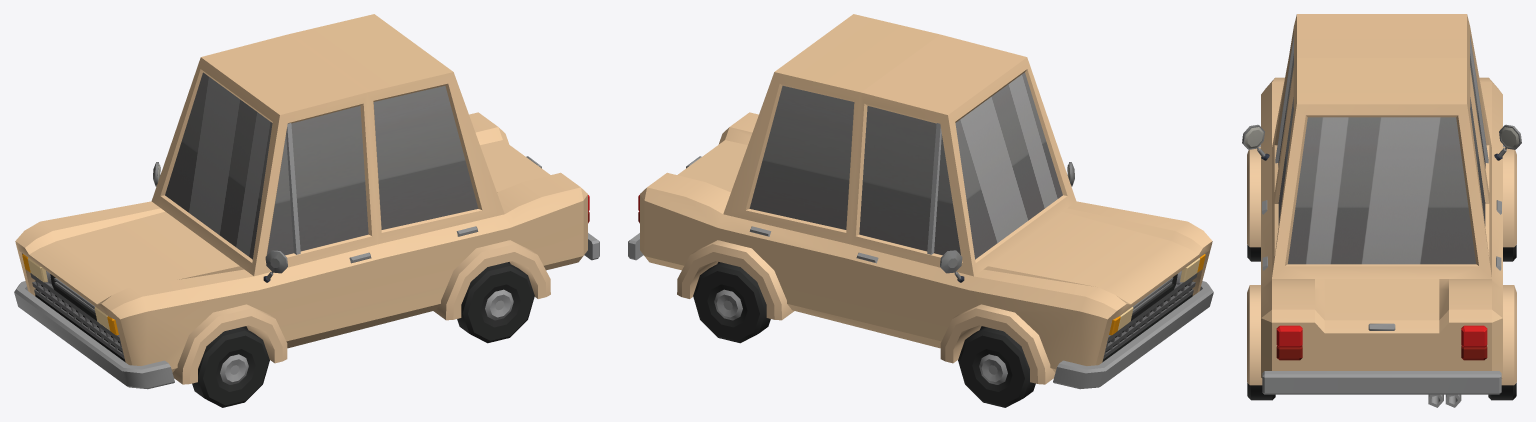
Rendered from Car_4_1_M.gltf.
The picture shows the model from 3 angles, left to right: view 1: azimuth 30°, elevation 25°; view 2: azimuth 150°, elevation 25°; view 3: azimuth 270°, elevation 25°; orthographic projection. The views are drawn at different scales.
Parts seen in each view (by area): view 1: Car_4_1_M, RL, FL; view 2: Car_4_1_M, RR, FR; view 3: Car_4_1_M, RL, RR.
Boxes of the visible parts, x1,y1,x2,y2 form: Car_4_1_M: [14, 14, 599, 389]; RL: [457, 262, 534, 343]; FL: [192, 327, 269, 407]; Car_4_1_M: [628, 14, 1213, 389]; RR: [693, 262, 770, 343]; FR: [958, 327, 1035, 407]; Car_4_1_M: [1242, 14, 1521, 407]; RL: [1247, 383, 1275, 400]; RR: [1488, 383, 1516, 400].
Size of the model in its own units: 3.53 by 1.81 by 1.65.
4 materials, 4 textured.
